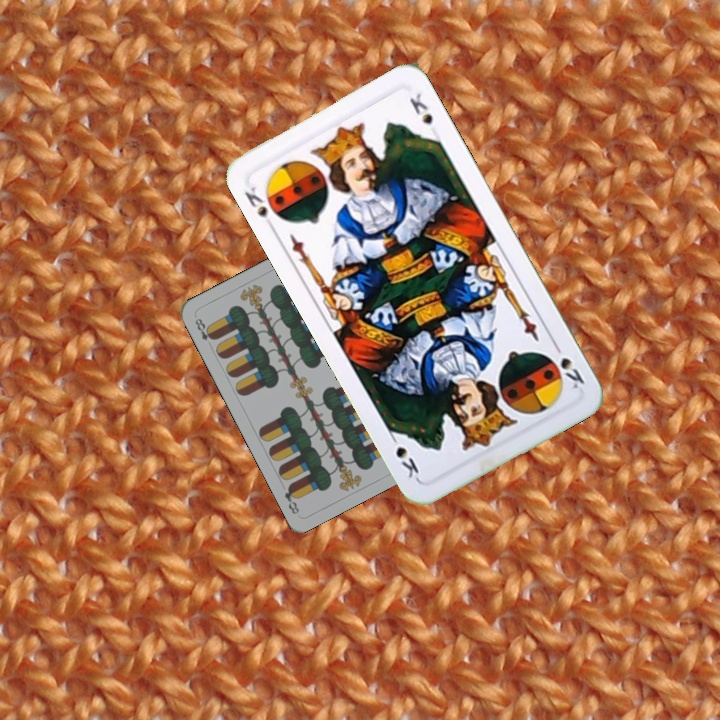E8: (191, 314, 217, 343)
SK: (549, 338, 587, 392), (240, 182, 270, 220)
